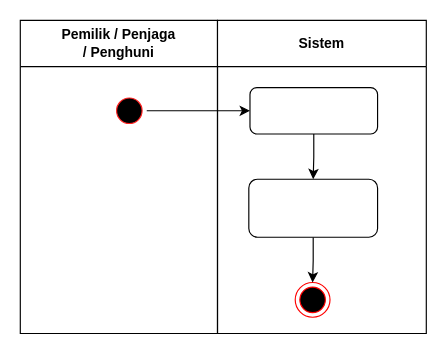
The diagram is 447 pixels wide and 354 high, and some of its shapes have lost their labels. Here are the shapes that lost their labels. From the top down, the centre of each, then its label:
At pixel 313 110: "mengambil data transaksi".
At pixel 313 207: "menampilkan riwayat transaksi".
